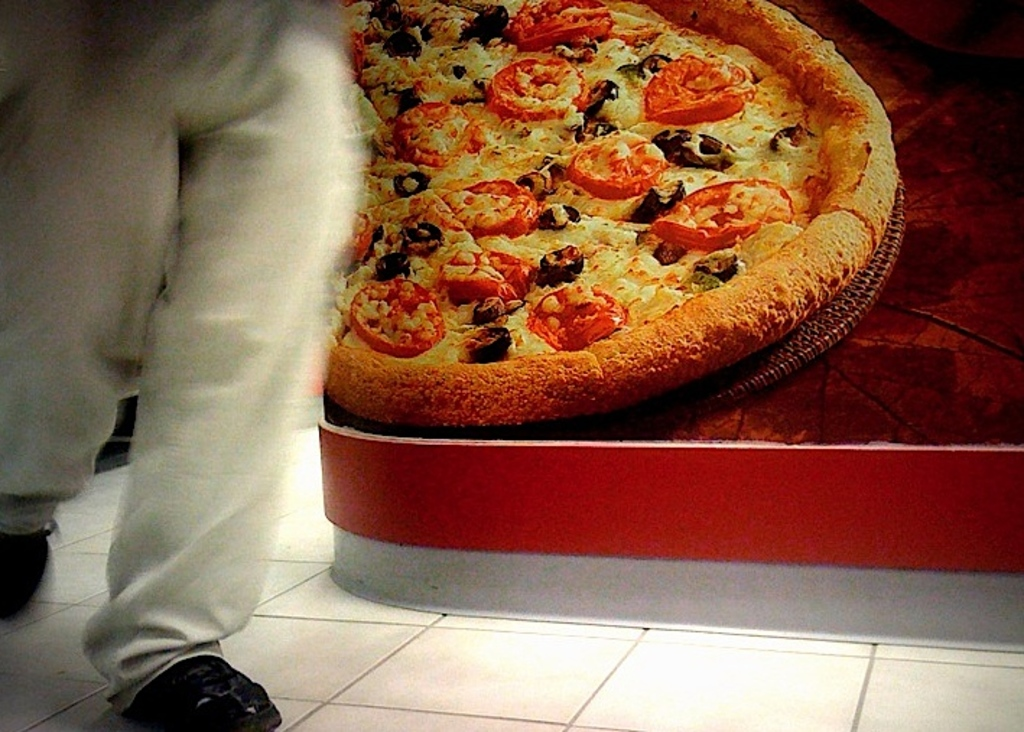Pizza: (346, 24, 876, 433)
